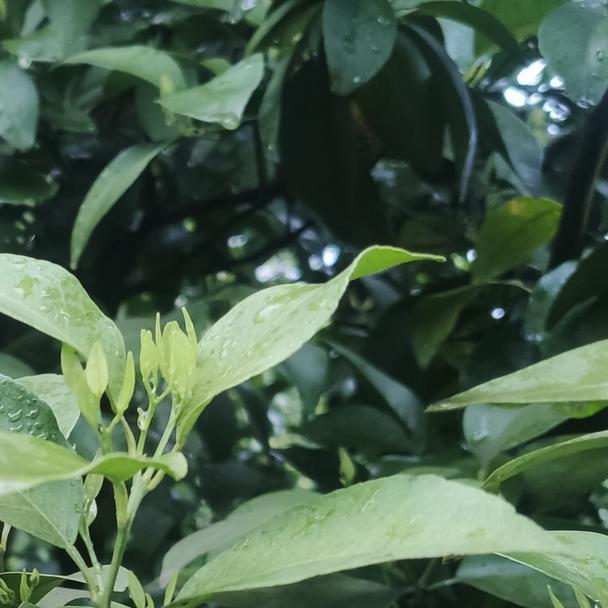shoot: (65, 344, 129, 433), (164, 318, 216, 405), (136, 313, 176, 394)
